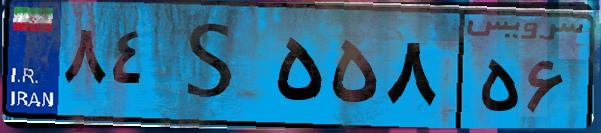4: (110, 28, 158, 98)
5: (270, 28, 330, 110), (330, 28, 385, 110), (475, 38, 525, 113)
6: (525, 38, 570, 115)
8: (385, 28, 445, 110), (57, 26, 110, 100)
S: (158, 12, 270, 120)
